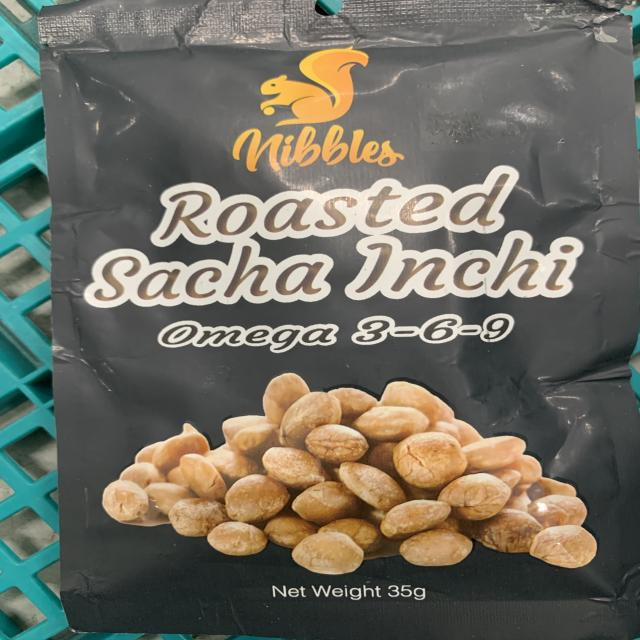object_name: (41, 2, 635, 640)
